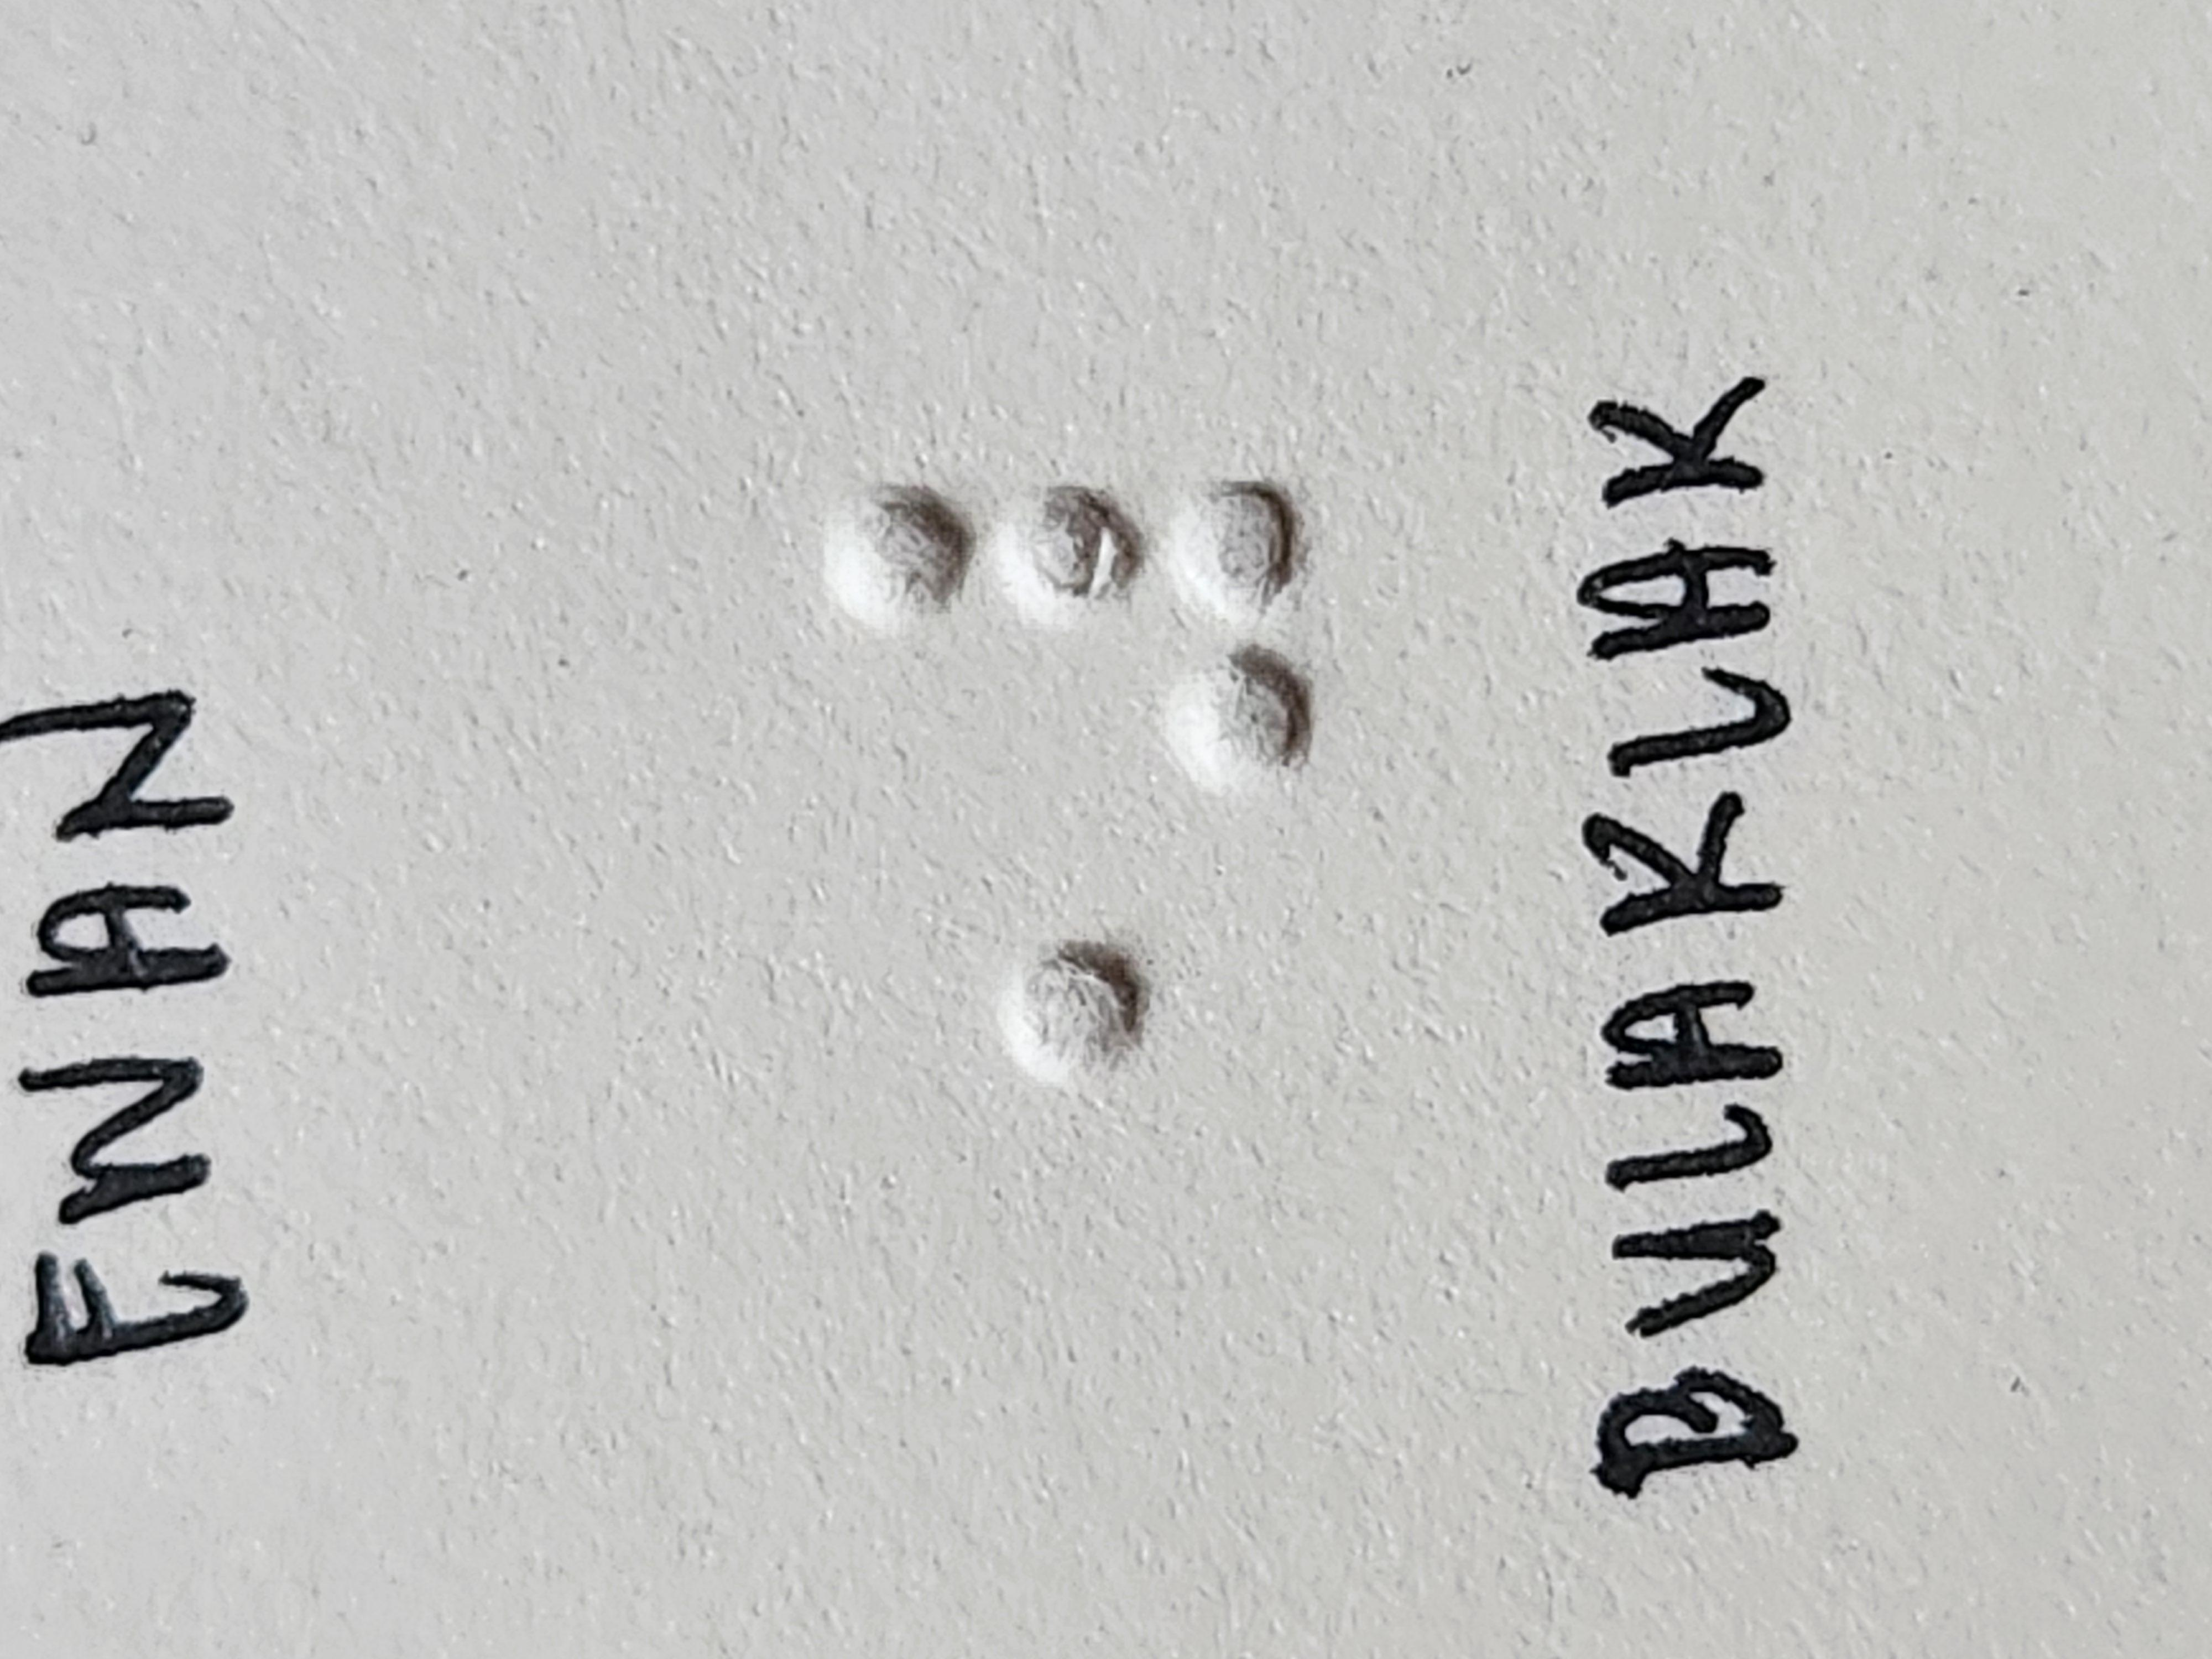dot_5: (542, 608, 951, 978)
two_cell_non_alphabet_bulaklak: (1167, 615, 1576, 985)
